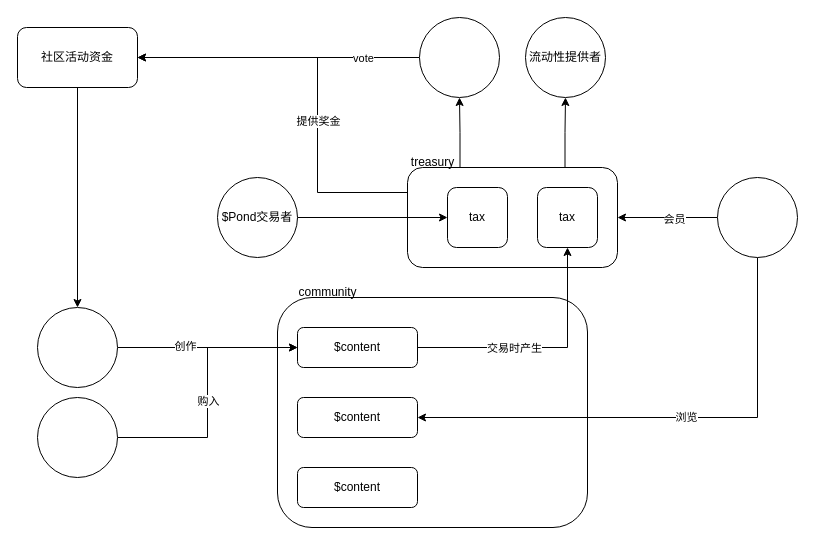
The diagram is 815 pixels wide and 545 high, and some of its shapes have lost their labels. Each missing label, with the box of its shape:
创作者: (36, 306, 118, 388)
普通用户: (716, 176, 798, 258)
炒作者: (36, 396, 118, 478)
质押者: (418, 16, 500, 98)
